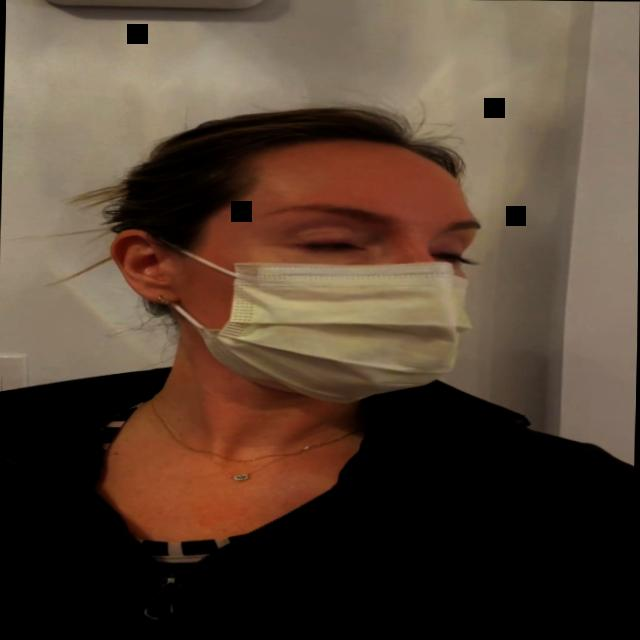Mask: (156, 135, 485, 406)
